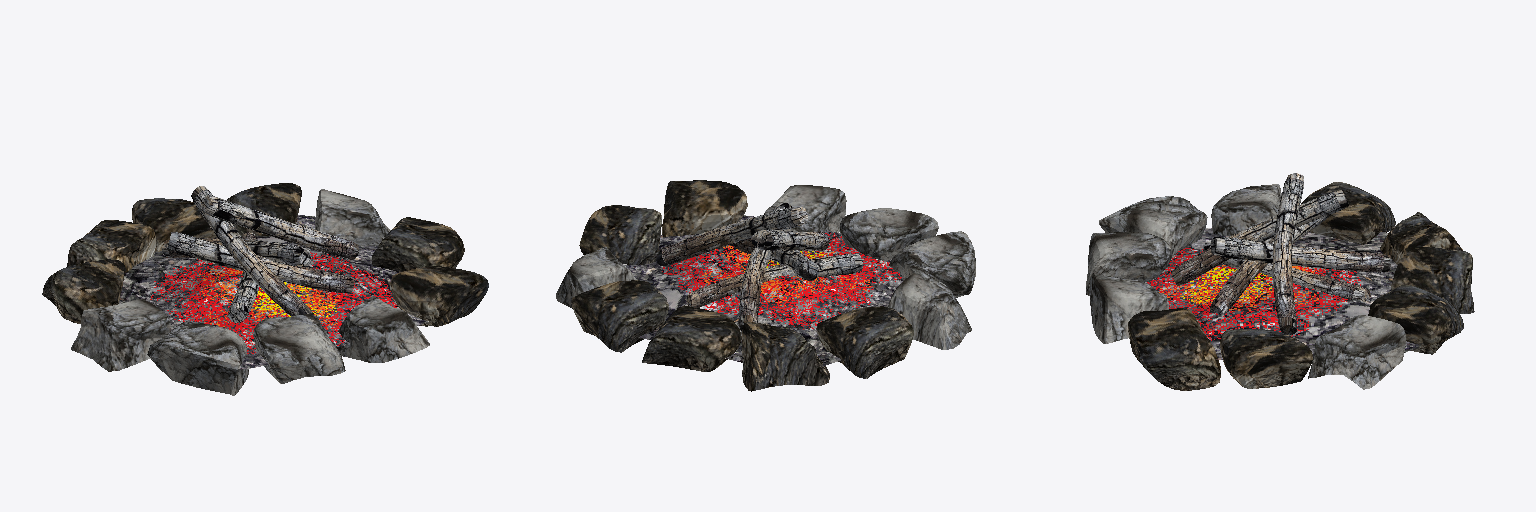
3 views of the same model, side by side, from view 1: azimuth 30°, elevation 25°; view 2: azimuth 150°, elevation 25°; view 3: azimuth 270°, elevation 25° (orthographic).
Parts seen in each view (by area): view 1: Ohniste_Circle.004; view 2: Ohniste_Circle.004; view 3: Ohniste_Circle.004.
Boxes of the visible parts, <box> form: Ohniste_Circle.004: <box>42,183,488,395</box>; Ohniste_Circle.004: <box>556,180,975,391</box>; Ohniste_Circle.004: <box>1086,173,1474,390</box>.
Size of the model in its own units: 2.75 by 0.8915 by 2.47.
Materials: 1 (1 with a texture image).